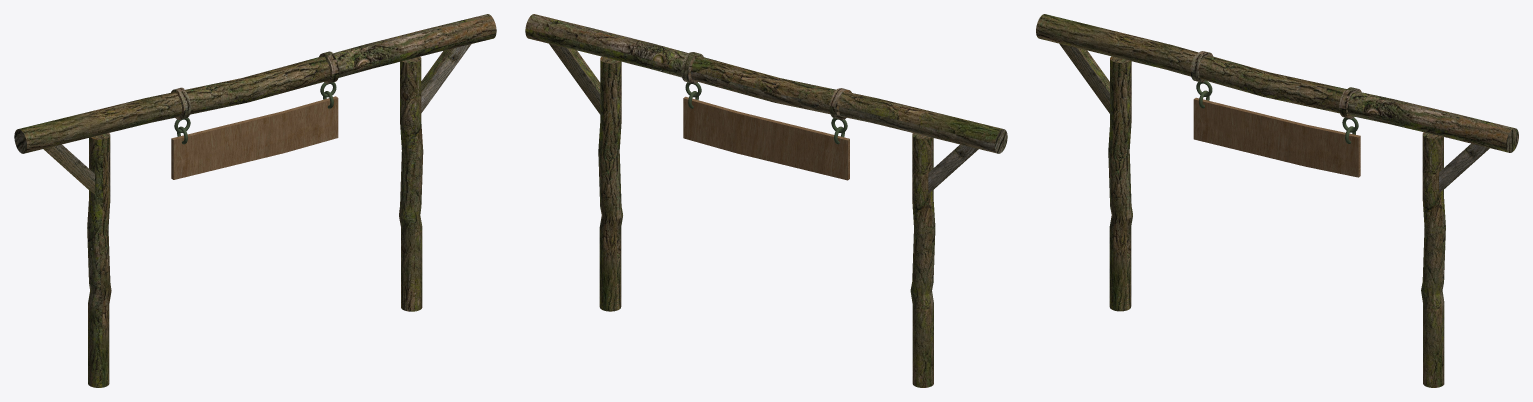
Rendered from SM_Prop_Ranch_Sign_01.fbx.
3 renders of one model, left to right at view 1: azimuth 30°, elevation 25°; view 2: azimuth 150°, elevation 25°; view 3: azimuth 330°, elevation 25°, orthographic.
Visible parts, largest first — view 1: Cylinder.002, Cube.002, Cylinder, Cylinder.001, Cube, Cube.001; view 2: Cylinder.002, Cube.002, Cylinder, Cylinder.001, Cube, Cube.001; view 3: Cylinder.002, Cube.002, Cylinder.001, Cylinder, Cube.001, Cube.
Boxes of the visible parts, <box> form: Cylinder.002: <box>14,14,496,153</box>; Cube.002: <box>171,96,338,179</box>; Cylinder: <box>399,57,423,311</box>; Cylinder.001: <box>87,133,111,387</box>; Cube: <box>421,44,471,112</box>; Cube.001: <box>43,144,94,194</box>; Cylinder.002: <box>525,14,1007,153</box>; Cube.002: <box>683,96,849,180</box>; Cylinder: <box>598,56,622,311</box>; Cylinder.001: <box>910,133,935,387</box>; Cube: <box>549,43,600,114</box>; Cube.001: <box>928,144,978,193</box>; Cylinder.002: <box>1036,14,1518,152</box>; Cube.002: <box>1193,97,1360,177</box>; Cylinder.001: <box>1108,56,1132,311</box>; Cylinder: <box>1421,132,1445,387</box>; Cube.001: <box>1059,43,1109,113</box>; Cube: <box>1439,143,1489,192</box>.
Size of the model in its own units: 753 by 419 by 43.04.
